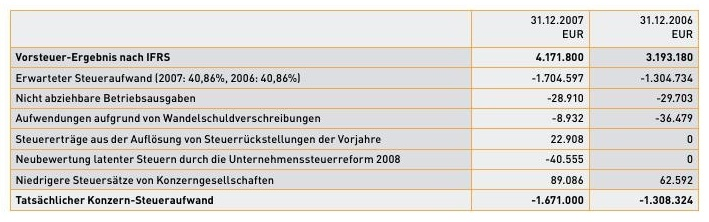table: (0, 0, 709, 222)
